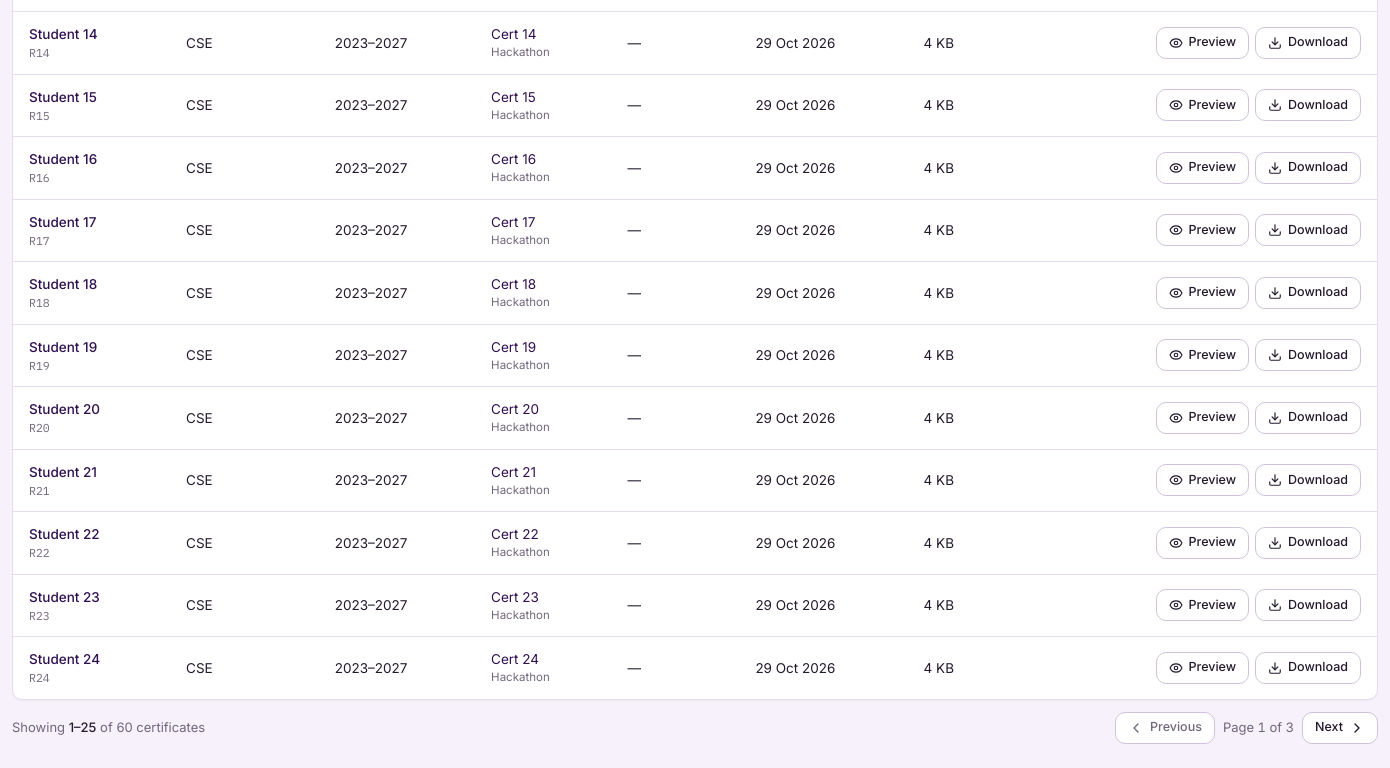
faculty › page through a long list from the server
This screenshot has width=1390, height=768.
(page scrolled)
Expected: the text "Page 1 of 3" is shown, x1=1223 y1=718 x2=1294 y2=737
What coordinates should you click on to do the following:
click the button "Next"
I would click on:
 (1340, 728)
Its box is x1=1302 y1=712 x2=1378 y2=744.
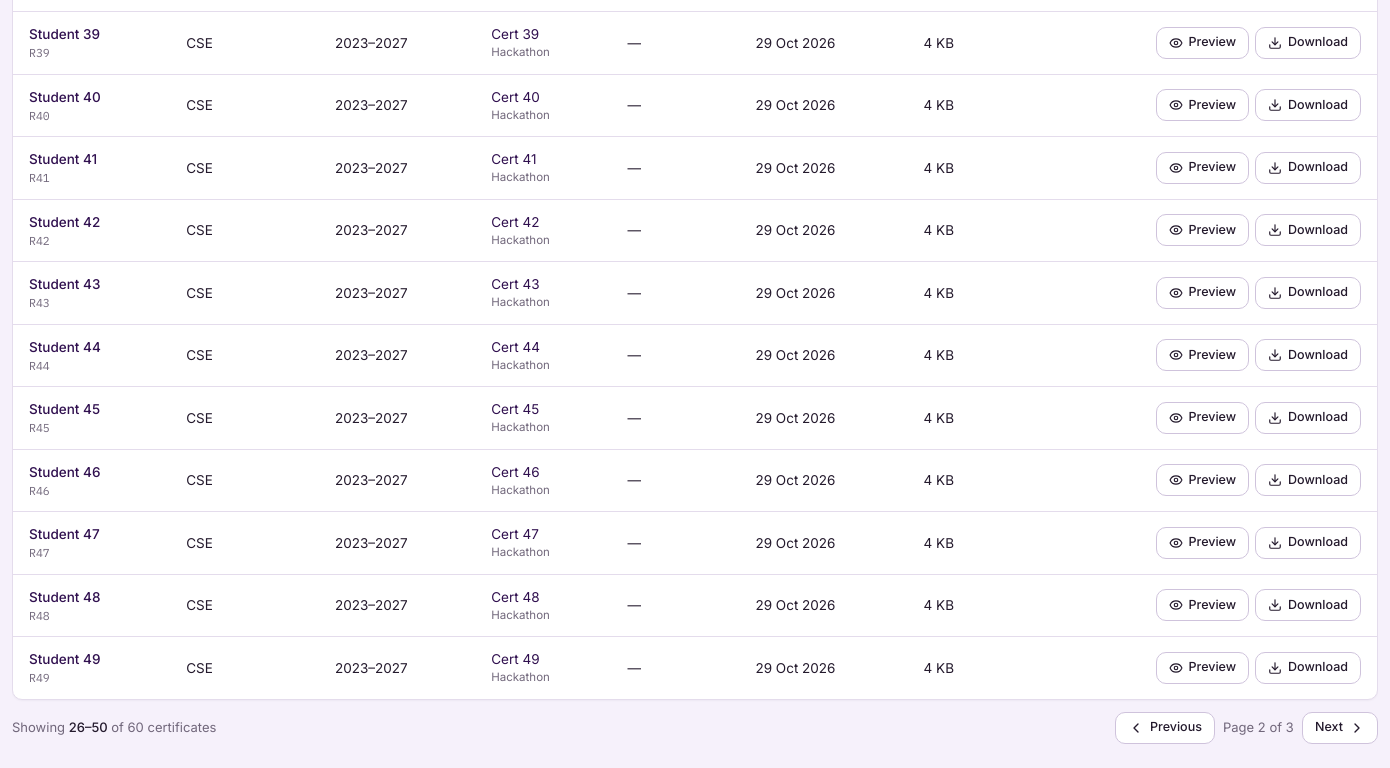
Now the text "Page 2 of 3" is shown, box x1=1223 y1=718 x2=1294 y2=737
